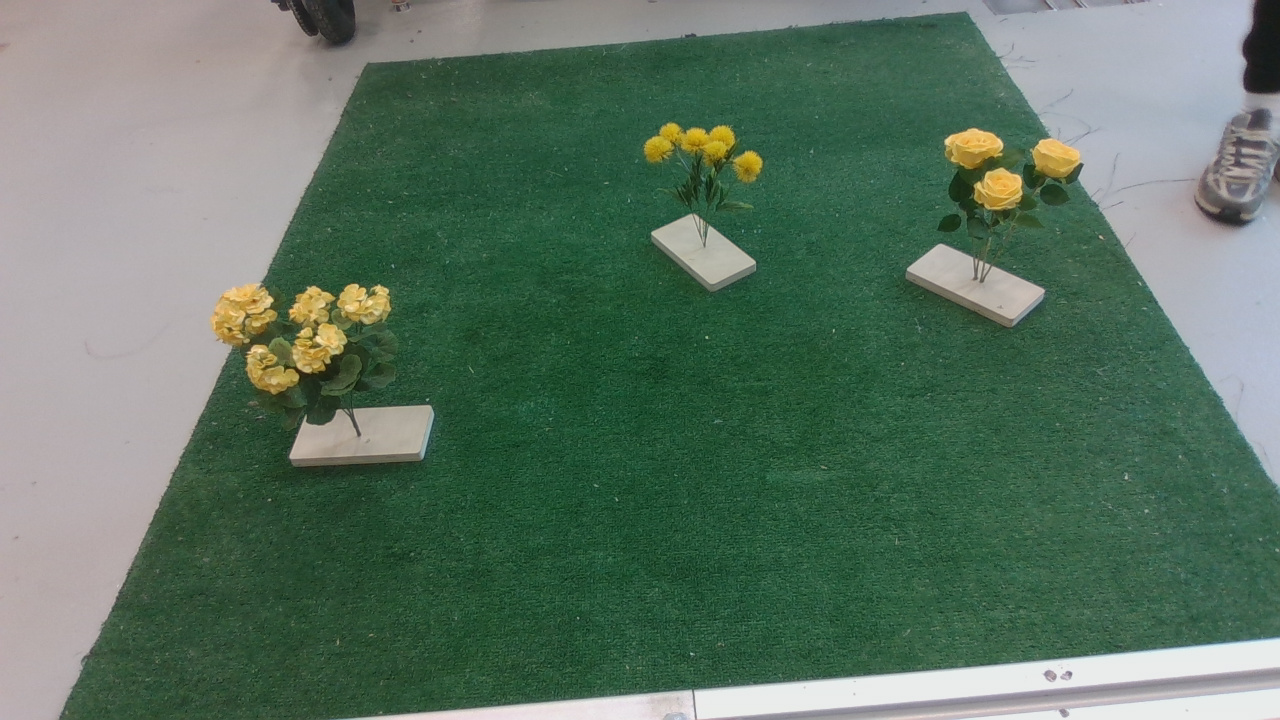dandelion: (643, 120, 774, 225)
geranium: (211, 275, 408, 437)
rose: (912, 129, 1096, 265)
